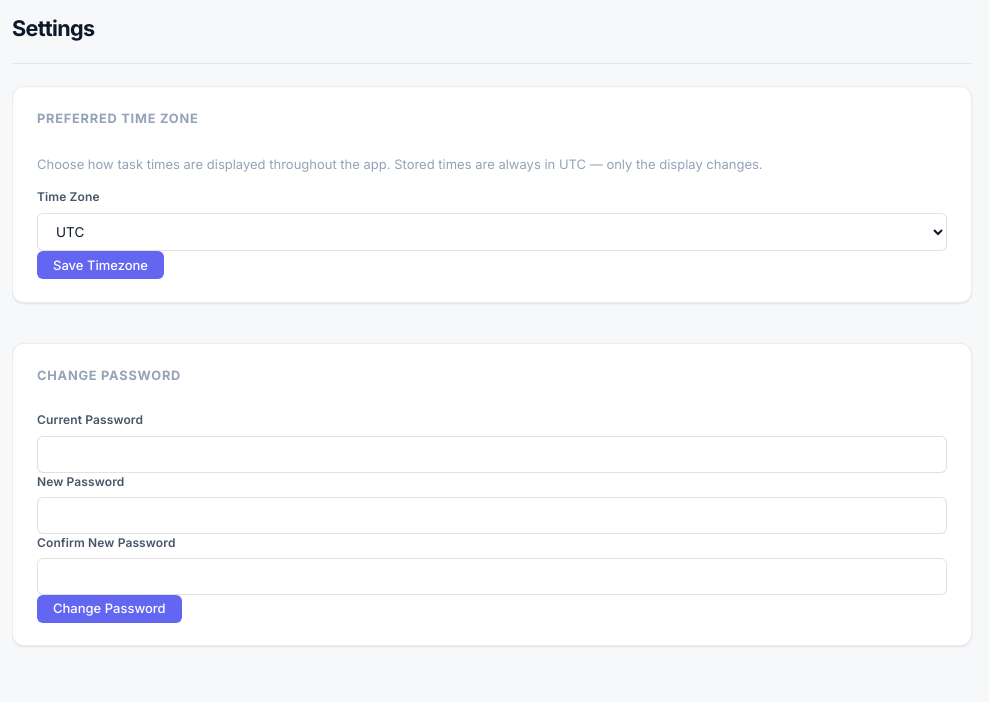
Test: SettingsPage — Timezone selector › shows error message when updateProfile API fails
Select "UTC" in the dropdown with test id "timezone-select" at (492, 232), box [37,213,947,251]
Click the button with test id "timezone-submit-btn".
click(100, 265)  # box [37,251,164,279]
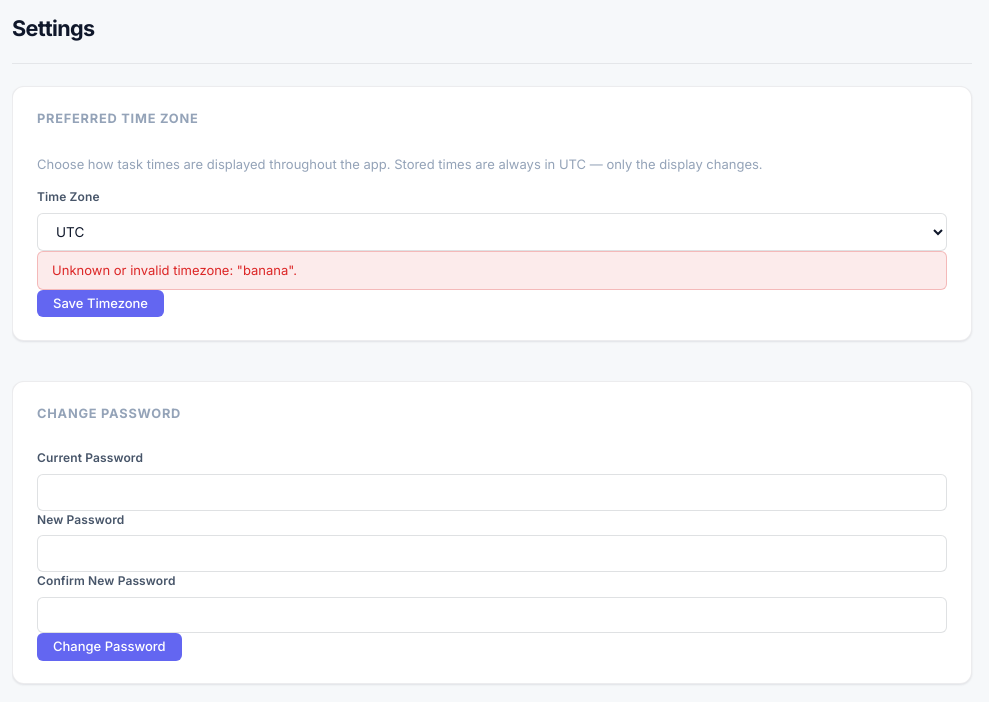
Check: the message "Unknown or invalid timezone: \"banana\"." is shown, box [37,251,947,290]
